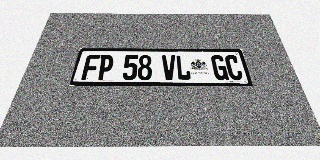5: (122, 55, 138, 80)
8: (137, 55, 152, 80)
C: (224, 55, 244, 80)
F: (81, 55, 100, 80)
G: (210, 55, 229, 80)
L: (176, 55, 191, 80)
P: (96, 55, 114, 80)
V: (162, 55, 176, 80)
